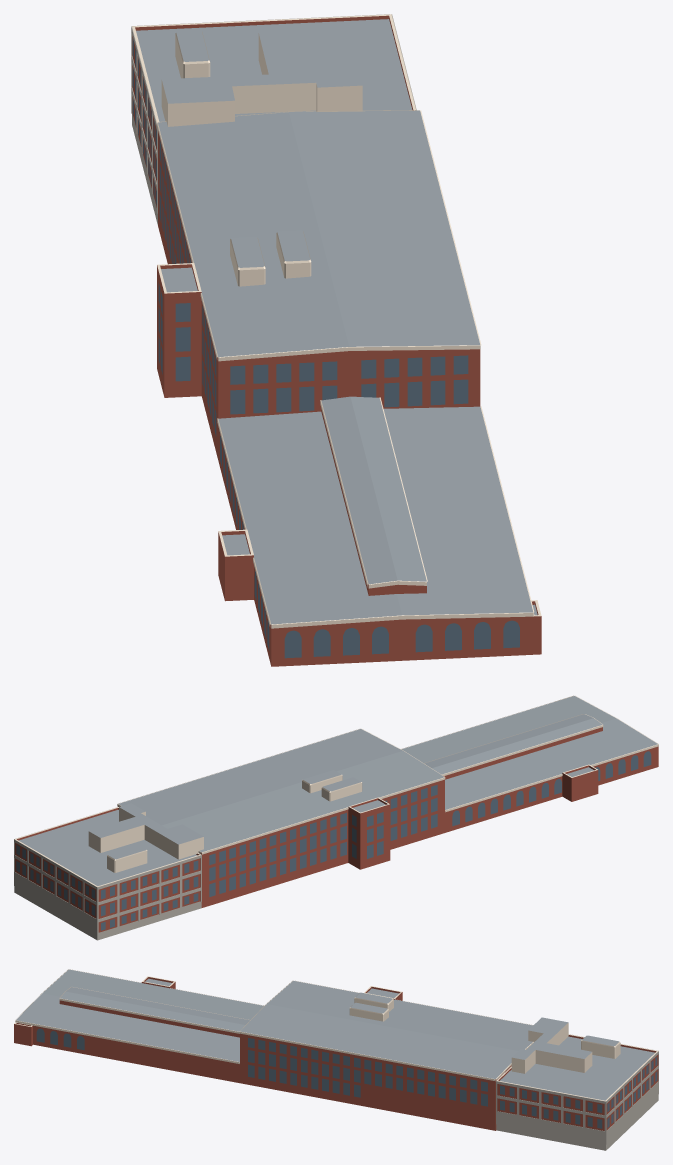
The picture shows the model from 3 angles, top to bottom: view 1: azimuth 30°, elevation 25°; view 2: azimuth 150°, elevation 25°; view 3: azimuth 270°, elevation 25°; orthographic projection. The views are drawn at different scales.
Visible parts, largest first — view 1: savona-mill; view 2: savona-mill; view 3: savona-mill.
Part boxes in pixels (<box>): savona-mill: <box>131,14,541,666</box>; savona-mill: <box>14,695,658,940</box>; savona-mill: <box>14,969,658,1150</box>.
Size of the model in its own units: 112 by 20.5 by 189.
